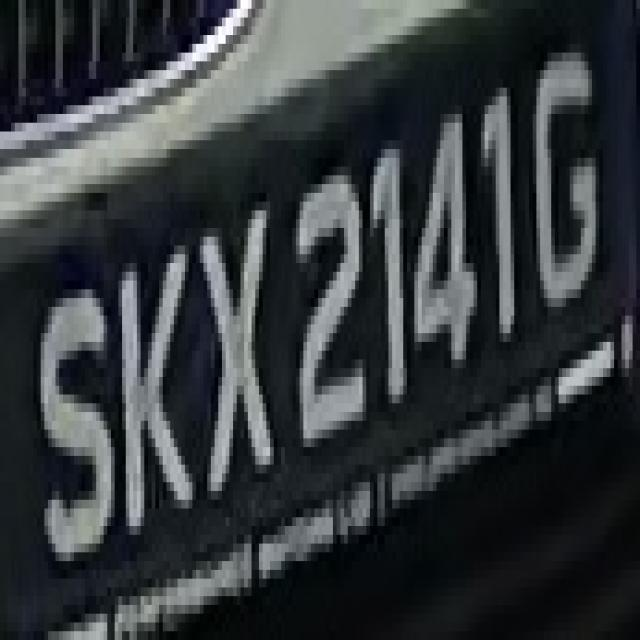1: (370, 96, 418, 421), (473, 44, 518, 359)
2: (292, 149, 374, 465)
4: (422, 96, 484, 377)
G: (529, 52, 610, 316)
K: (107, 246, 185, 561)
S: (30, 245, 119, 570)
X: (185, 202, 289, 508)
